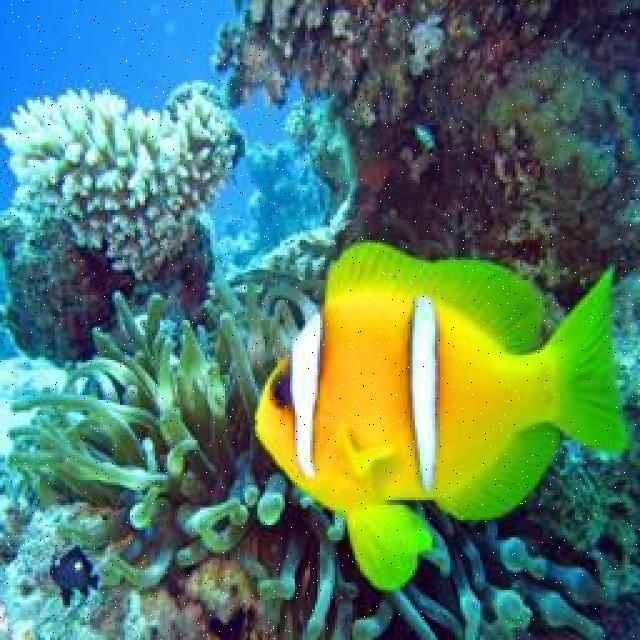fish: (254, 242, 637, 592), (47, 544, 102, 610)
reefs: (5, 266, 618, 638), (0, 82, 245, 283)
